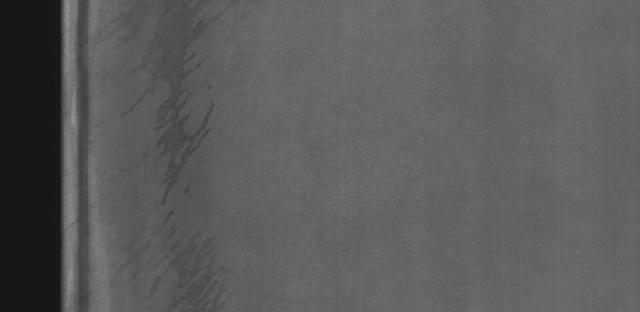water_spot: (108, 8, 244, 311)
